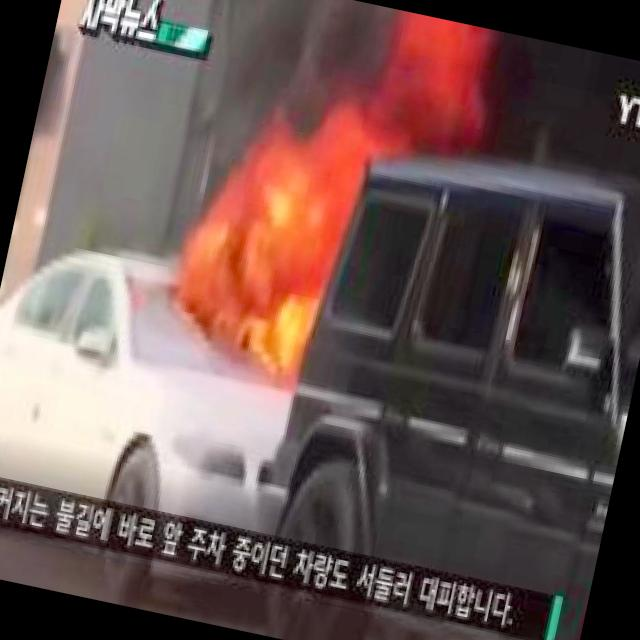fire: (186, 68, 386, 390)
